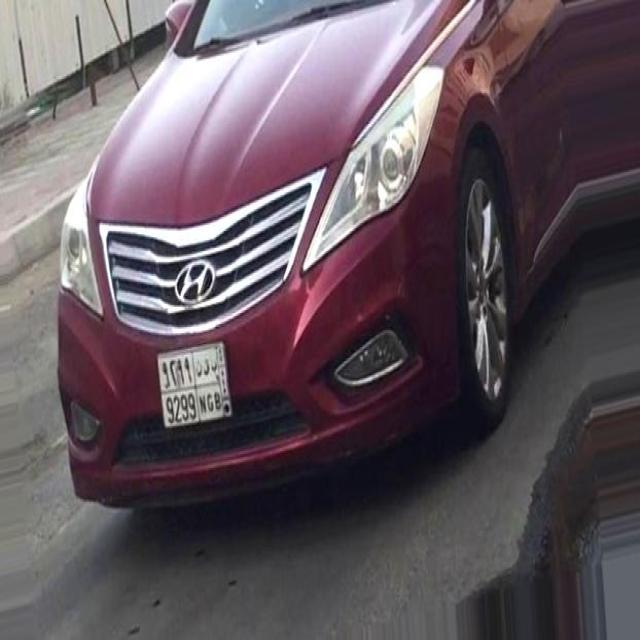Car-plate: (147, 327, 243, 442)
